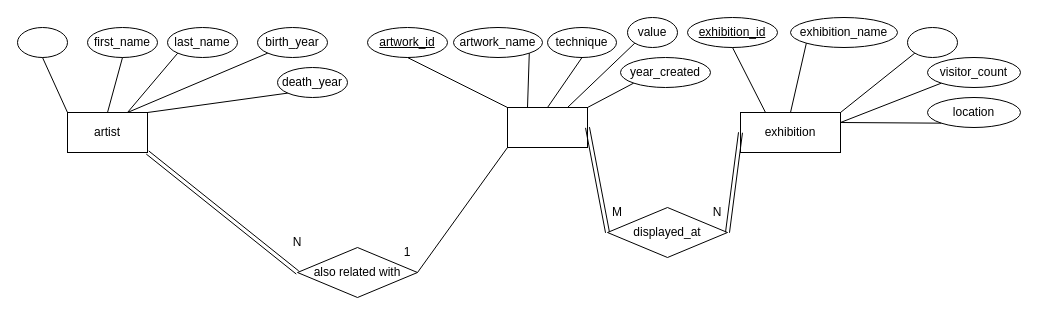
This 1038x315 diagram has some shape labels left out. Here are the shapes that lost their labels. From the top down, the centre of each, then its label:
point 42,42: artist_id
point 932,42: year
point 547,127: artwork
